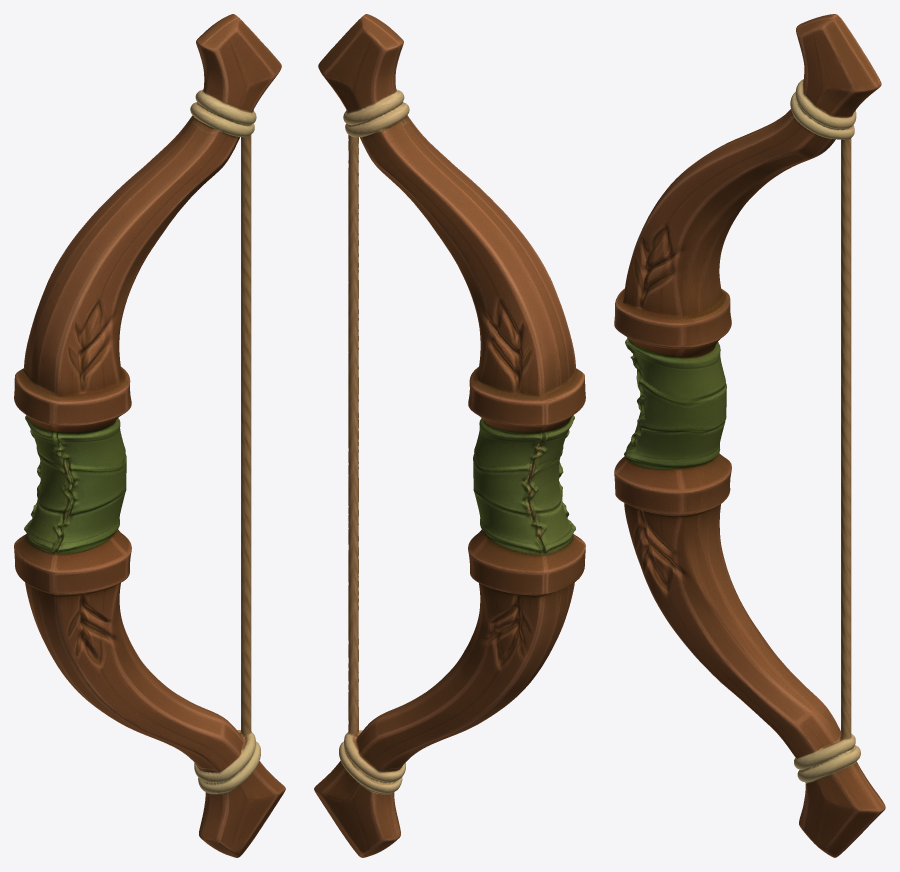
File: prop_shortbow_v2.glb
3 renders of one model, left to right at view 1: azimuth 30°, elevation 25°; view 2: azimuth 150°, elevation 25°; view 3: azimuth 330°, elevation 25°, orthographic.
Visible parts, largest first — view 1: mesh_node; view 2: mesh_node; view 3: mesh_node.
Boxes of the visible parts, <box> form: mesh_node: <box>14,14,285,857</box>; mesh_node: <box>314,14,585,857</box>; mesh_node: <box>614,14,885,857</box>.
Bounding box in the file's own units: 0.2196 × 0.68 × 0.0806.
Materials: 1 (1 with a texture image).
